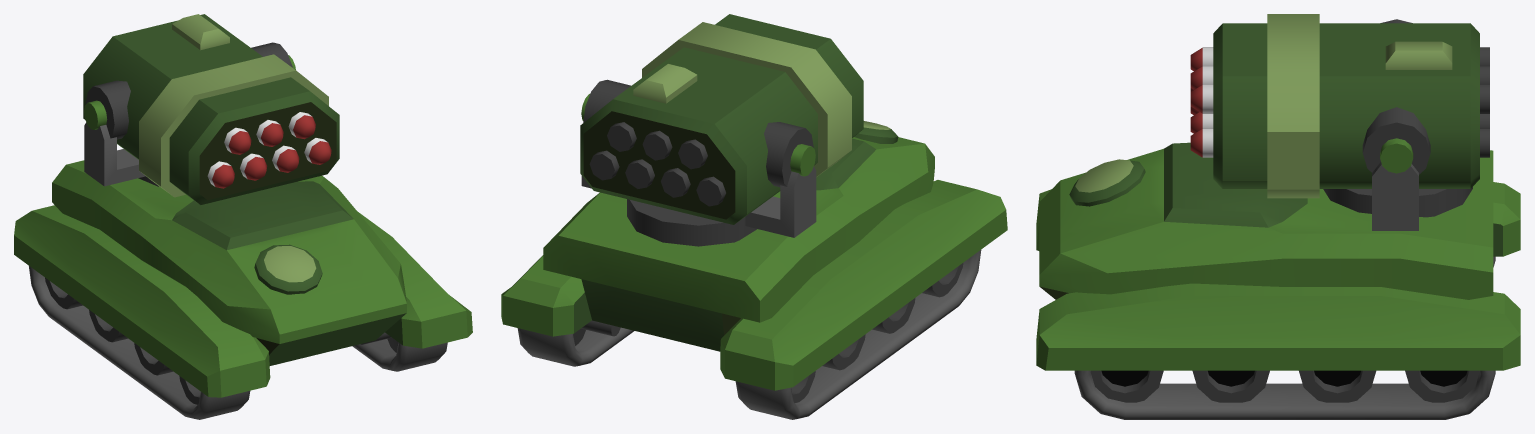
Rendered from Tank 5.fbx.
3 views of the same model, side by side, from view 1: azimuth 30°, elevation 25°; view 2: azimuth 150°, elevation 25°; view 3: azimuth 270°, elevation 25° (orthographic). The views are drawn at different scales.
Visible parts, largest first — view 1: Cube.438, Cube.440, Cube.439, Circle.020, Cylinder.481, Cylinder.483, Plane.073, Cylinder.484, Cylinder.480, Cylinder.513; view 2: Cube.440, Cube.438, Cube.439, Circle.020, Cylinder.483, Cylinder.482, Plane.073, Cylinder.484, Cylinder.480, Cylinder.513, Cylinder.481; view 3: Cube.438, Cube.439, Cube.440, Circle.020, Cylinder.480, Cylinder.483, Plane.073, Cylinder.481, Cylinder.513, Cylinder.482, Cylinder.484.
Boxes of the visible parts, x1,y1,x2,y2 form: Cube.438: (52, 160, 406, 365); Cube.440: (83, 14, 339, 204); Cube.439: (14, 205, 472, 397); Circle.020: (29, 266, 447, 419); Cylinder.481: (254, 244, 322, 294); Cylinder.483: (84, 42, 295, 139); Plane.073: (84, 122, 145, 186); Cylinder.484: (207, 138, 331, 188); Cylinder.480: (45, 277, 398, 404); Cylinder.513: (224, 112, 315, 154); Cube.440: (580, 14, 863, 224); Cube.438: (543, 137, 934, 351); Cube.439: (501, 180, 1007, 390); Circle.020: (517, 250, 981, 419); Cylinder.483: (581, 79, 815, 187); Cylinder.482: (627, 199, 756, 246); Plane.073: (581, 166, 816, 237); Cylinder.484: (589, 150, 725, 206); Cylinder.480: (573, 263, 963, 402); Cylinder.513: (607, 122, 707, 169); Cylinder.481: (854, 121, 898, 143); Cube.438: (1039, 142, 1493, 299); Cube.439: (1036, 182, 1520, 370); Cube.440: (1213, 14, 1479, 198); Circle.020: (1074, 256, 1495, 419); Cylinder.480: (1090, 370, 1479, 402); Cylinder.483: (1362, 19, 1430, 174); Plane.073: (1372, 162, 1418, 230); Cylinder.481: (1069, 159, 1145, 206); Cylinder.513: (1190, 47, 1489, 113); Cylinder.482: (1323, 187, 1472, 217); Cylinder.484: (1190, 88, 1489, 157).
Bounding box in the file's own units: 843 × 821 × 1137.
